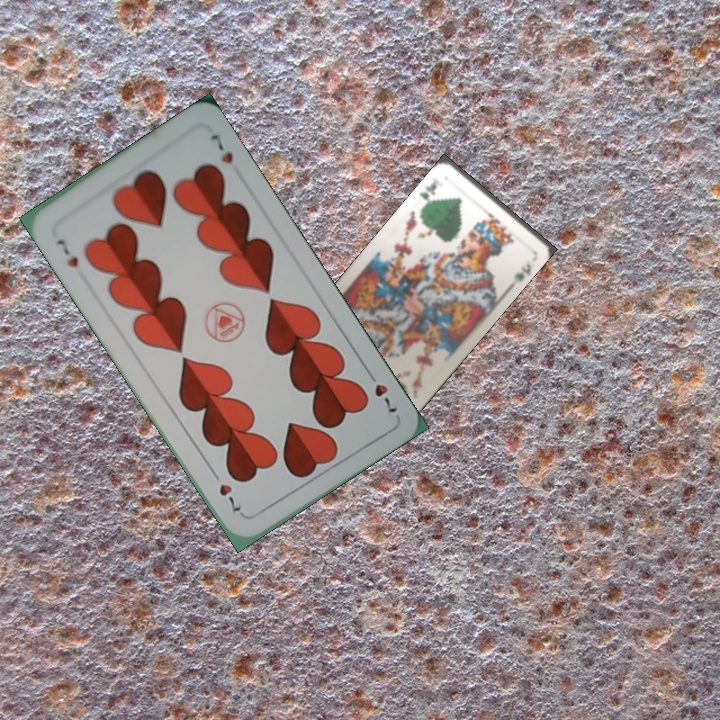GK: (415, 177, 439, 209)
H7: (362, 365, 401, 416), (52, 235, 81, 270)
